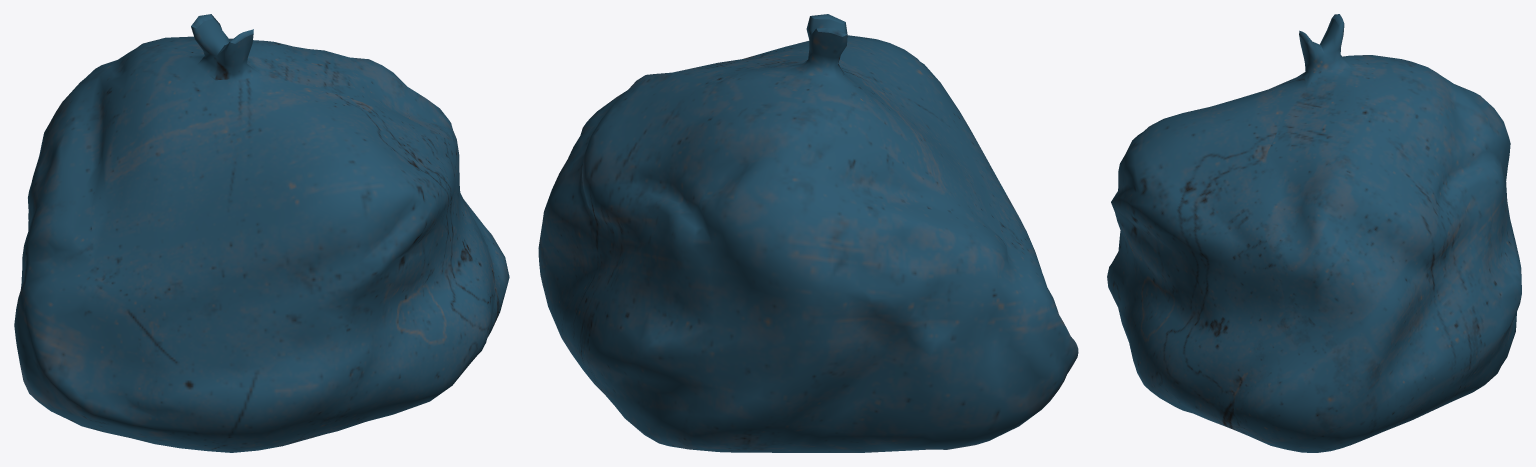
The model's file is SM_Trashbag03.fbx.
3 renders of one model, left to right at view 1: azimuth 30°, elevation 25°; view 2: azimuth 150°, elevation 25°; view 3: azimuth 270°, elevation 25°, orthographic. The views are drawn at different scales.
Parts seen in each view (by area): view 1: SM_Trashbag03_LOD0; view 2: SM_Trashbag03_LOD0; view 3: SM_Trashbag03_LOD0.
Part boxes in pixels (box(x1,y1,x2,y2)): SM_Trashbag03_LOD0: box(14, 14, 509, 452); SM_Trashbag03_LOD0: box(538, 14, 1078, 452); SM_Trashbag03_LOD0: box(1107, 14, 1521, 452).
Size of the model in its own units: 42.84 by 35.33 by 33.26.
1 material, 1 textured.
